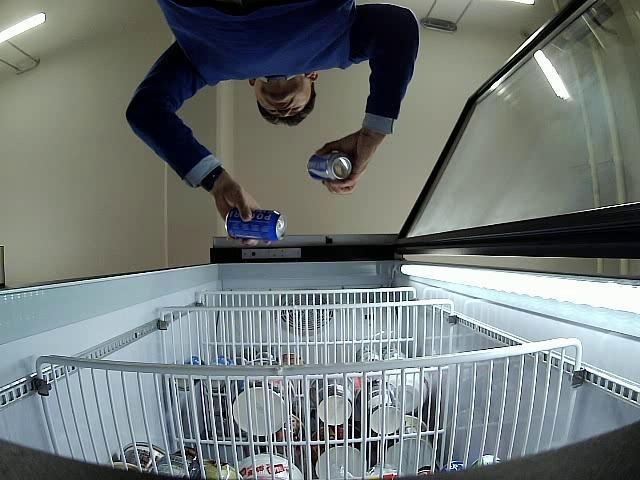13_pocariSweat: (225, 209, 288, 242), (306, 154, 354, 181)
